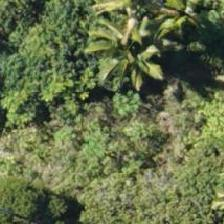coconut_tree: (82, 0, 172, 89)
